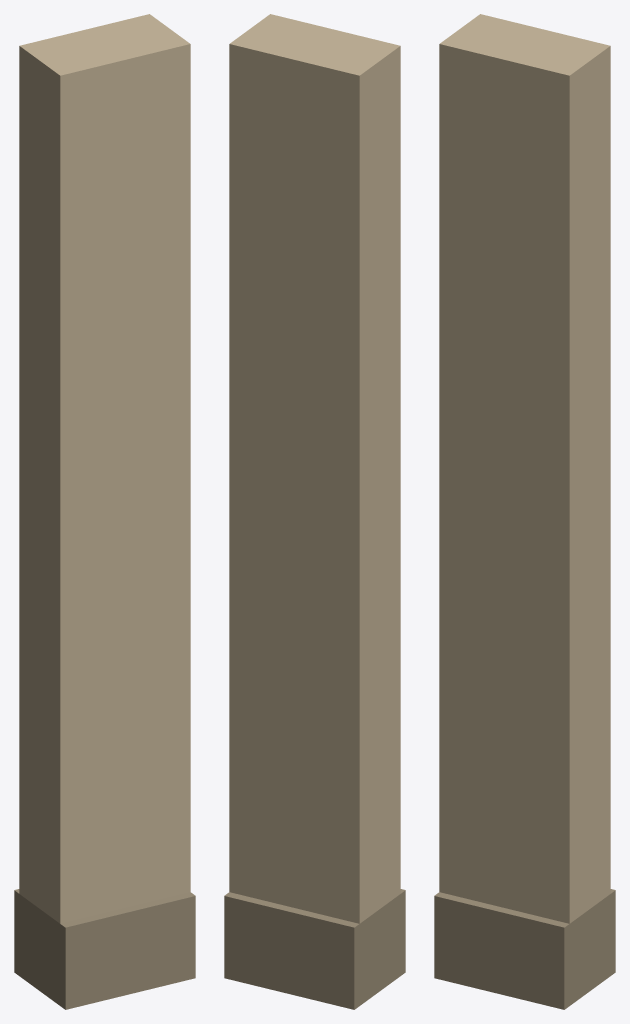
Rendered from Pilar.fbx.
3 renders of one model, left to right at view 1: azimuth 30°, elevation 25°; view 2: azimuth 150°, elevation 25°; view 3: azimuth 330°, elevation 25°, orthographic.
Visible parts, largest first — view 1: Cubo.021; view 2: Cubo.021; view 3: Cubo.021.
Boxes of the visible parts, x1,y1,x2,y2 form: Cubo.021: (14,14,195,1009); Cubo.021: (224,14,405,1009); Cubo.021: (434,14,615,1009).
Bounding box in the file's own units: 147 × 1000 × 100.
